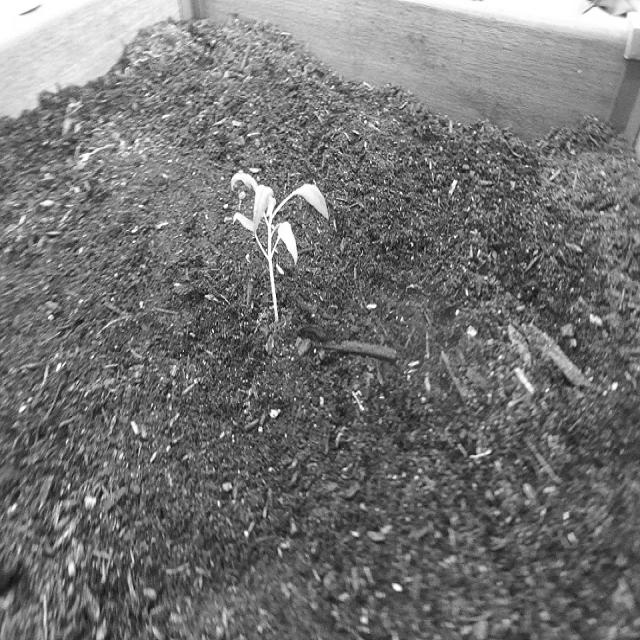Healthy: (224, 161, 337, 334)
